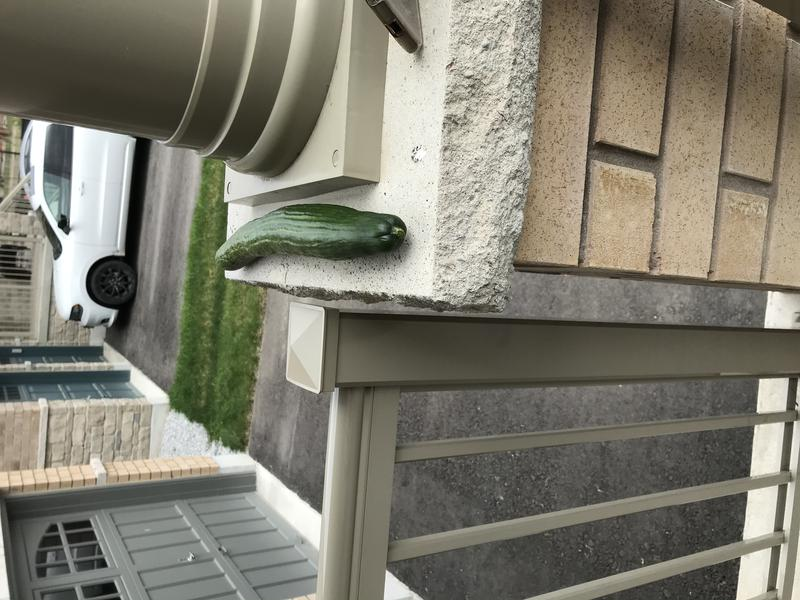cucumber: (208, 199, 426, 282)
